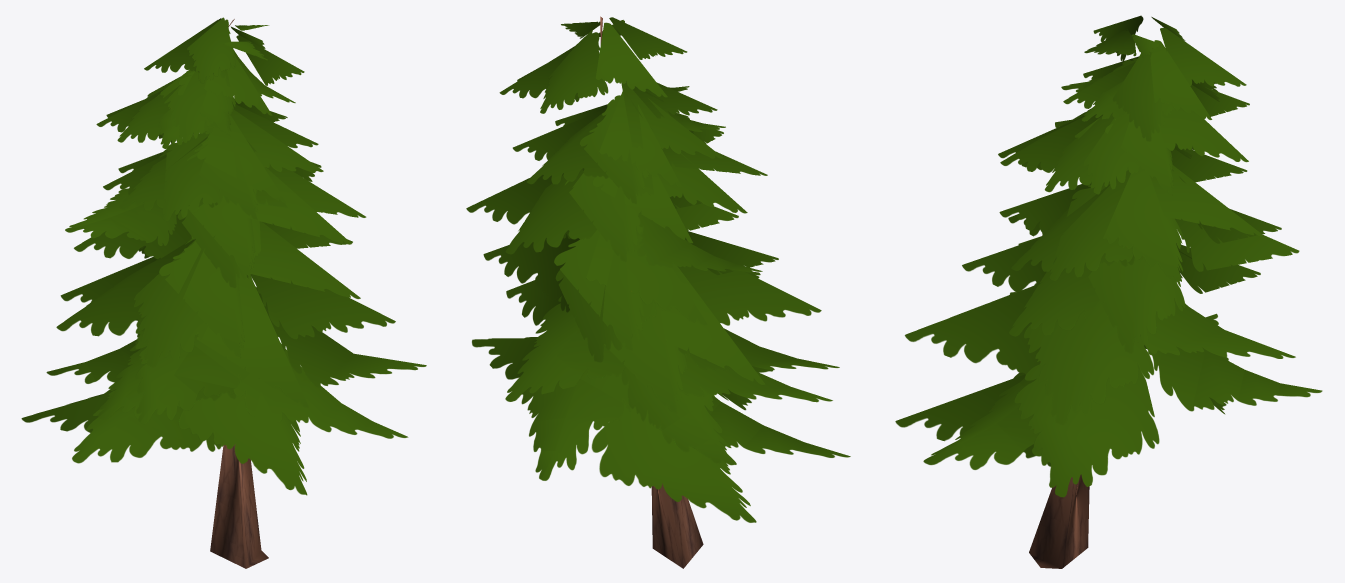
The model's file is spruce-4-far.glb.
3 renders of one model, left to right at view 1: azimuth 30°, elevation 25°; view 2: azimuth 150°, elevation 25°; view 3: azimuth 270°, elevation 25°, orthographic. The views are drawn at different scales.
Visible parts, largest first — view 1: Pine_5; view 2: Pine_5; view 3: Pine_5.
Part boxes in pixels (x1,y1,x2,y2): Pine_5: [21, 17, 426, 568]; Pine_5: [466, 16, 850, 568]; Pine_5: [895, 15, 1322, 568].
Bounding box in the file's own units: 6.42 × 8.65 × 6.22.
Materials: 2 (2 with a texture image).
